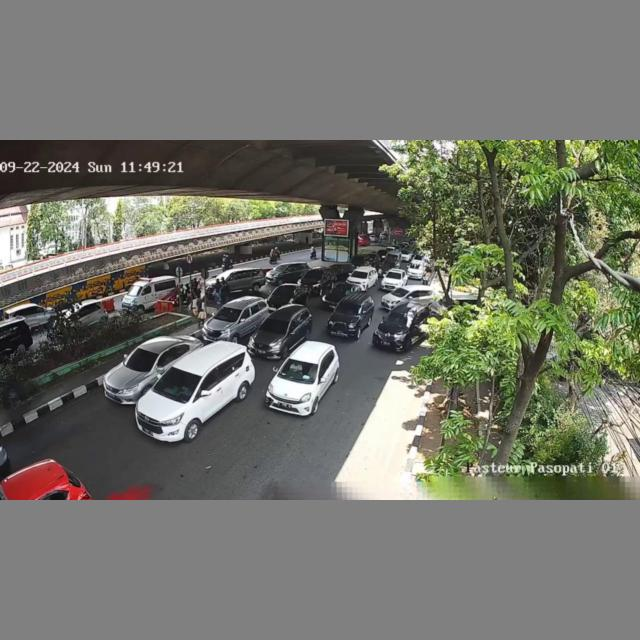windshield: (157, 367, 202, 398), (279, 359, 320, 385), (122, 347, 156, 373), (260, 318, 290, 335), (385, 311, 413, 329), (213, 308, 242, 324), (336, 301, 363, 317), (389, 287, 409, 298), (350, 271, 368, 281), (386, 271, 402, 281)
